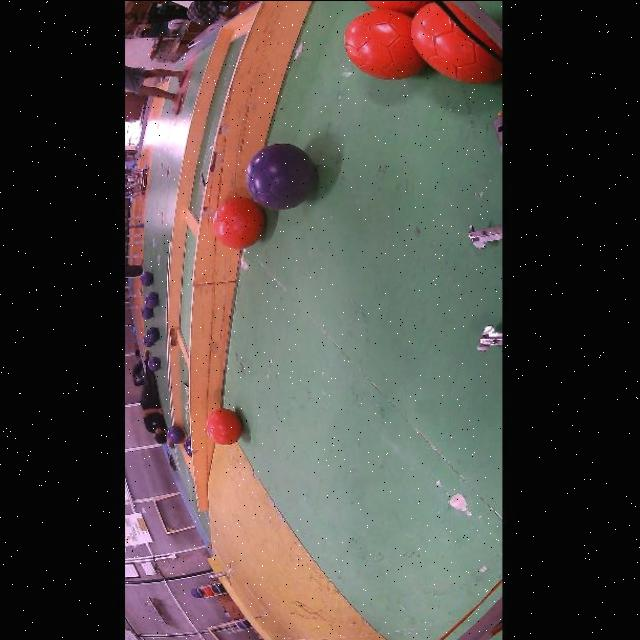P: (246, 142, 317, 209), (167, 425, 184, 442), (145, 290, 159, 307), (139, 271, 154, 285), (147, 356, 162, 370), (141, 305, 154, 318), (184, 436, 192, 456), (142, 334, 153, 347)
R: (411, 2, 503, 83), (345, 10, 425, 79), (445, 1, 503, 56), (213, 196, 265, 248), (206, 407, 243, 444), (365, 0, 431, 15)
